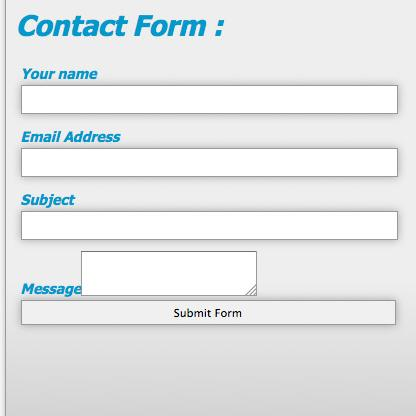button: (18, 299, 400, 328)
field: (19, 209, 399, 242), (19, 84, 400, 116), (20, 147, 398, 179), (79, 250, 258, 296)
field_with_label: (17, 67, 402, 119), (18, 129, 400, 181), (16, 193, 401, 244), (22, 248, 260, 299)
